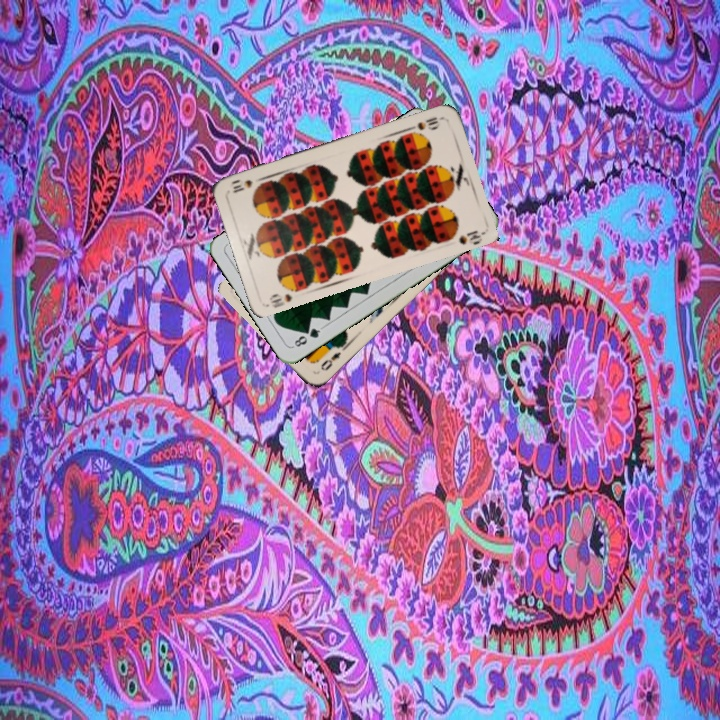EO: (317, 348, 344, 374)
G8: (289, 323, 325, 350)
S10: (265, 282, 302, 310), (413, 113, 440, 133)
